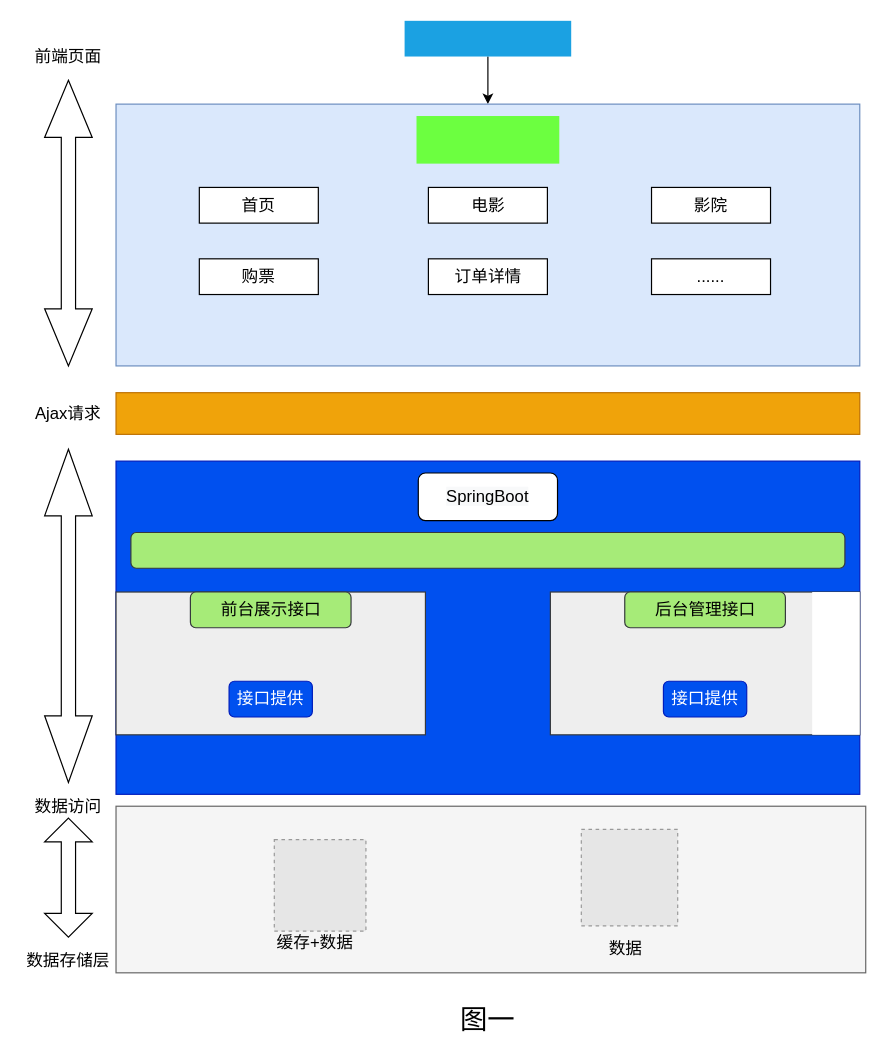
Some shapes in this 887 by 1057 pixel diagram are drawn without their labels. Grey dashed boxes stand in for pictures. The centre of each missing label's shape, as x and y in pixels:
API接口: the point at 487,413
SwaggerUI: the point at 487,549
Vue.js: the point at 487,139
权限控制: the point at 835,662
浏览器: the point at 487,38
